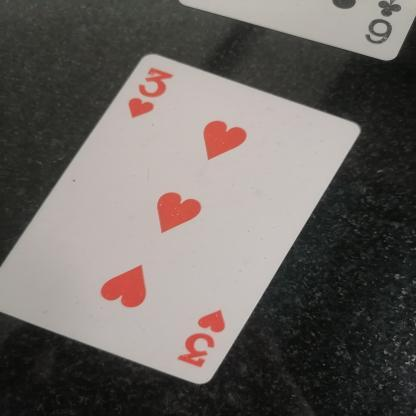3H: (171, 294, 246, 378), (111, 60, 178, 128)
